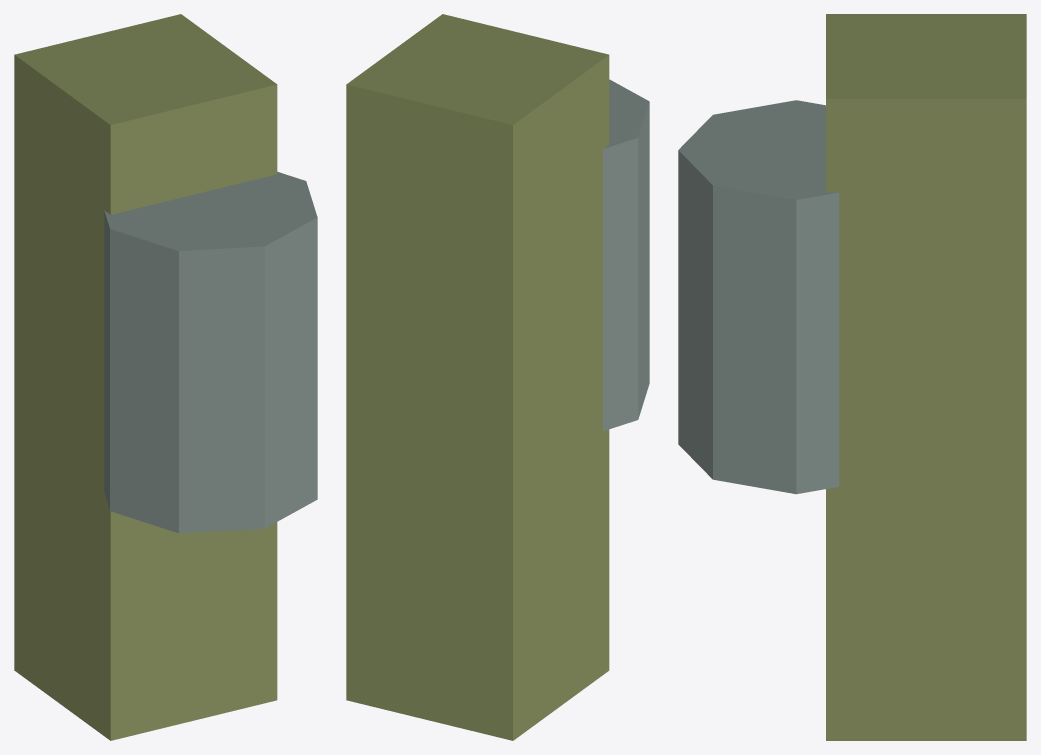
The model's file is SM_KitSueltas_v3_LOD1.fbx.
3 renders of one model, left to right at view 1: azimuth 30°, elevation 25°; view 2: azimuth 150°, elevation 25°; view 3: azimuth 270°, elevation 25°, orthographic. The views are drawn at different scales.
Visible parts, largest first — view 1: SM_bloques.kit_sueltas_v3_LOD1; view 2: SM_bloques.kit_sueltas_v3_LOD1; view 3: SM_bloques.kit_sueltas_v3_LOD1.
Boxes of the visible parts, left/top/right/bottom form: SM_bloques.kit_sueltas_v3_LOD1: left=14, top=14, right=317, bottom=740; SM_bloques.kit_sueltas_v3_LOD1: left=346, top=14, right=649, bottom=740; SM_bloques.kit_sueltas_v3_LOD1: left=678, top=14, right=1026, bottom=740.
Size of the model in its own units: 0.4 by 1.2 by 0.59.
